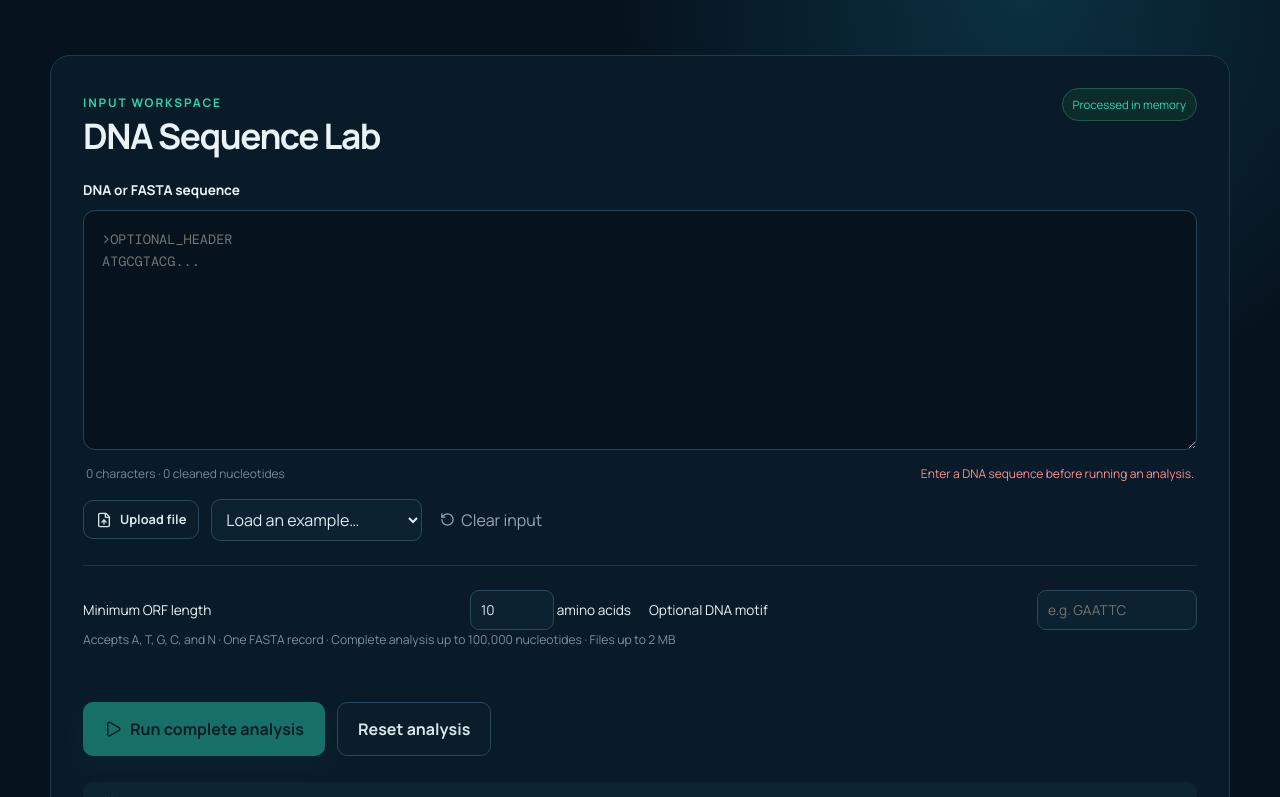
it: disables submit and displays invalid DNA status
Type "ATGB" into the text box labelled "DNA or FASTA sequence" at (640, 330), box x1=83 y1=210 x2=1197 y2=450
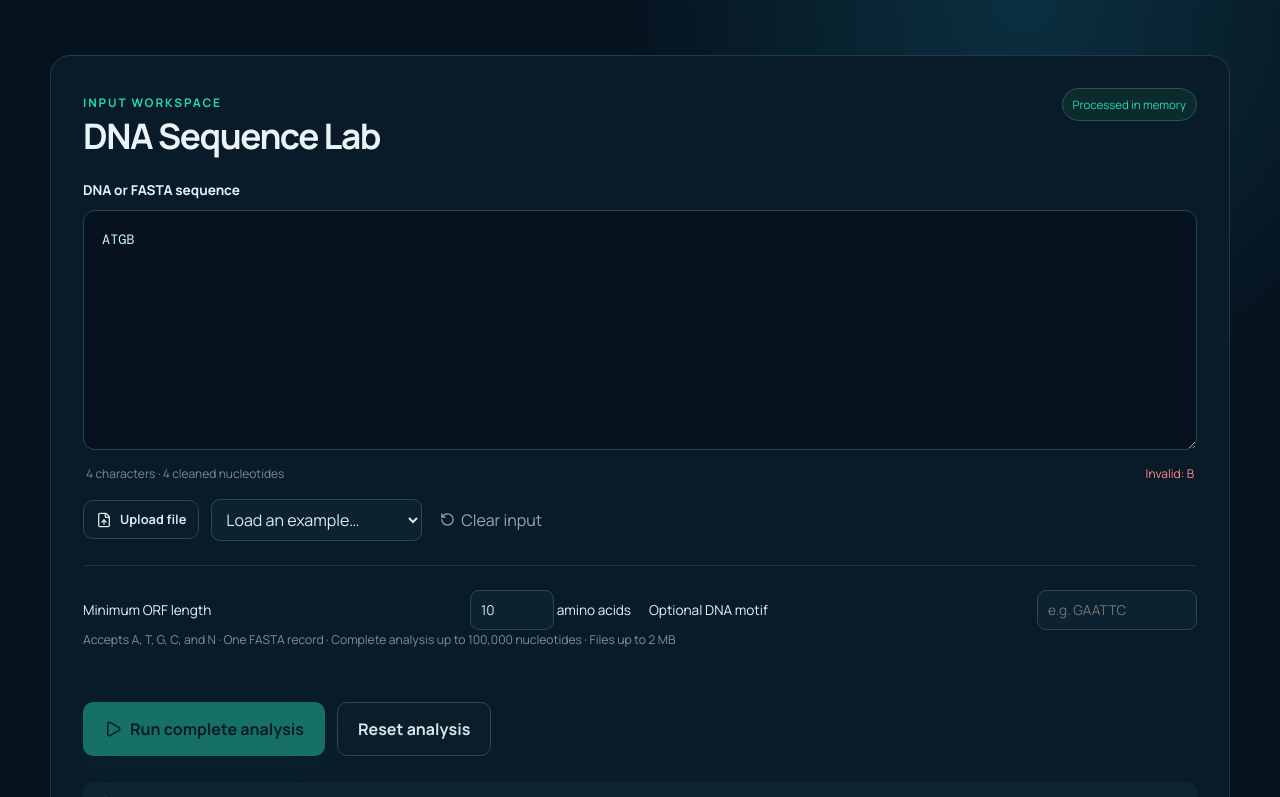
Expected: the button "Run complete analysis" is disabled, x1=83 y1=702 x2=325 y2=756
Result: the text "Invalid: B" is shown at x1=1146 y1=464 x2=1194 y2=484
